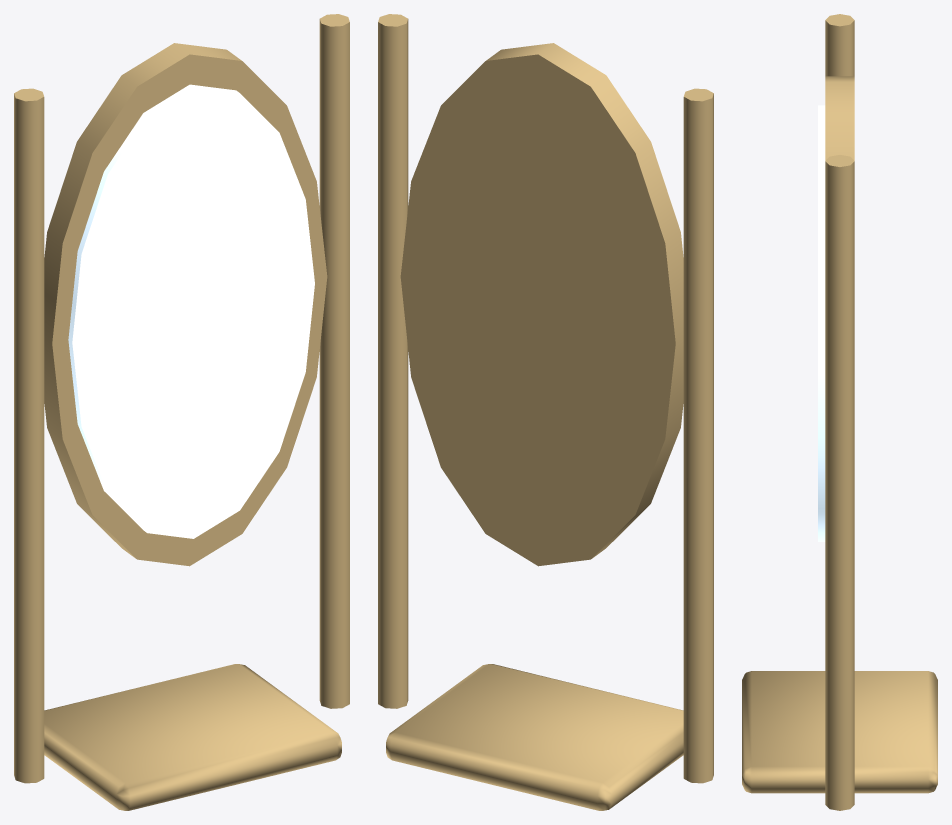
Rendered from v_furn_mirror.glb.
The picture shows the model from 3 angles, left to right: view 1: azimuth 30°, elevation 25°; view 2: azimuth 150°, elevation 25°; view 3: azimuth 270°, elevation 25°; orthographic projection. The views are drawn at different scales.
Parts seen in each view (by area): view 1: Mirror; view 2: Mirror; view 3: Mirror.
Boxes of the visible parts, bbox=[...] form: Mirror: bbox=[14, 14, 349, 810]; Mirror: bbox=[378, 14, 713, 810]; Mirror: bbox=[742, 14, 937, 810].
Bounding box in the file's own units: 0.74 × 1.49 × 0.4.
